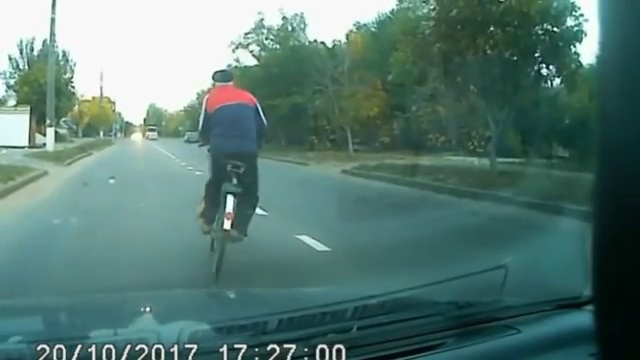cyclist_back: (188, 62, 264, 290)
